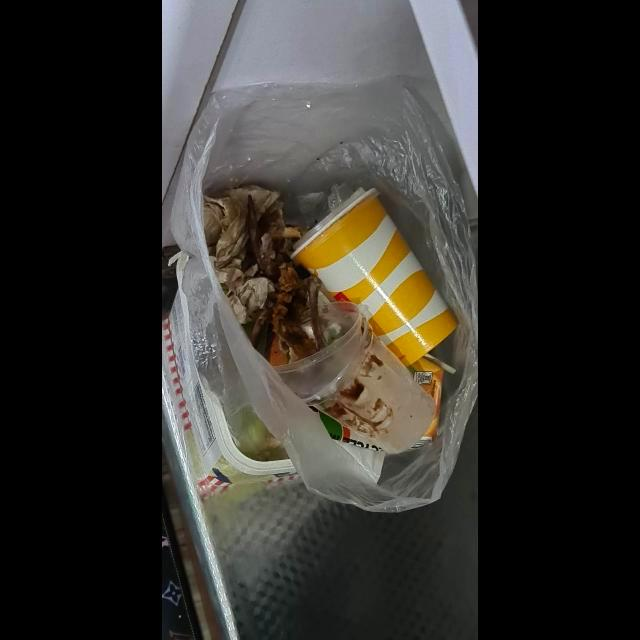cardboard: (291, 188, 459, 369)
left_over_food: (203, 185, 319, 364)
plastic_container: (274, 302, 436, 454)
